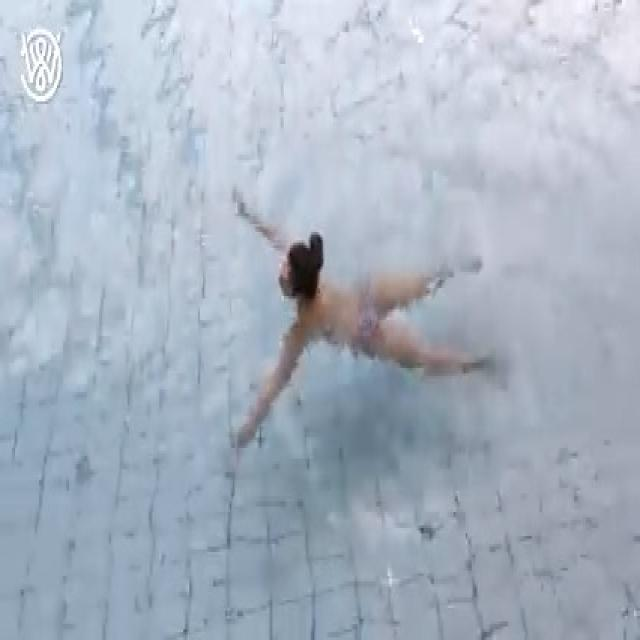Swimming: (176, 196, 533, 460)
